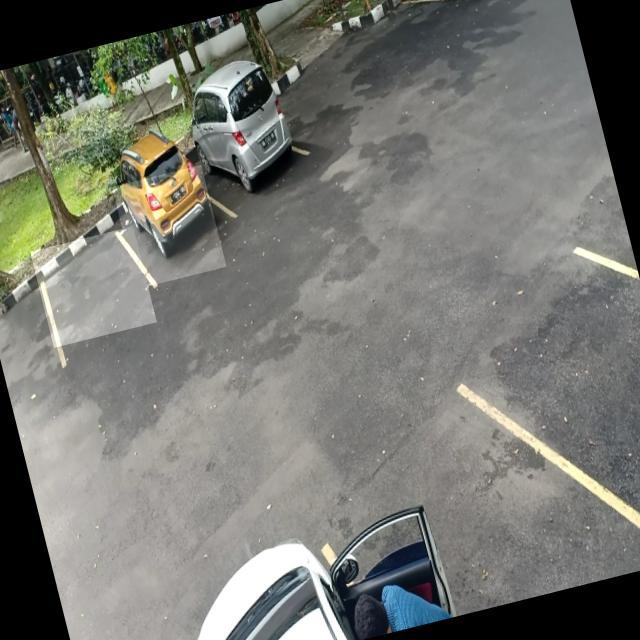empty: (30, 225, 156, 348)
occupied: (188, 96, 316, 222), (112, 164, 227, 288)
